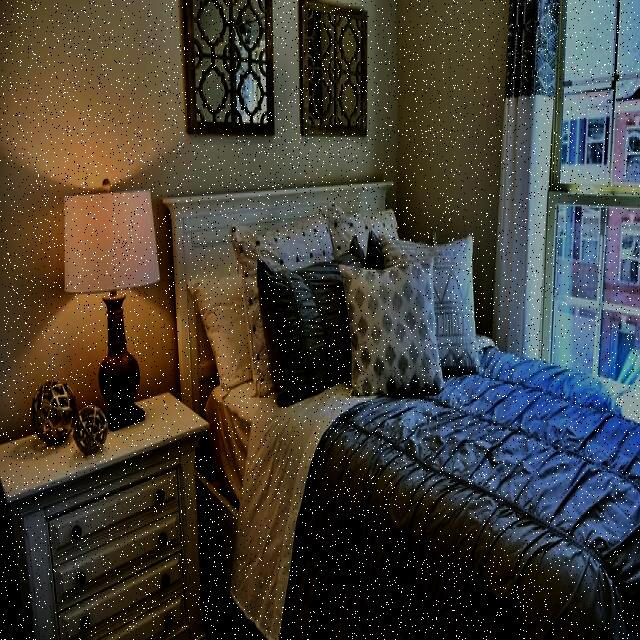bed: (170, 164, 640, 640)
